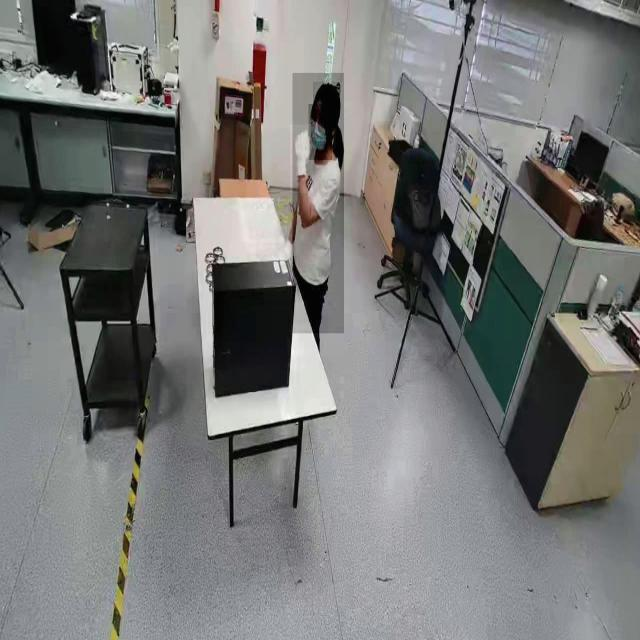face_mask: (308, 104, 332, 160)
hand_glove: (290, 124, 313, 193)
head_nohelmet: (313, 82, 341, 105)
person: (292, 73, 344, 334)
